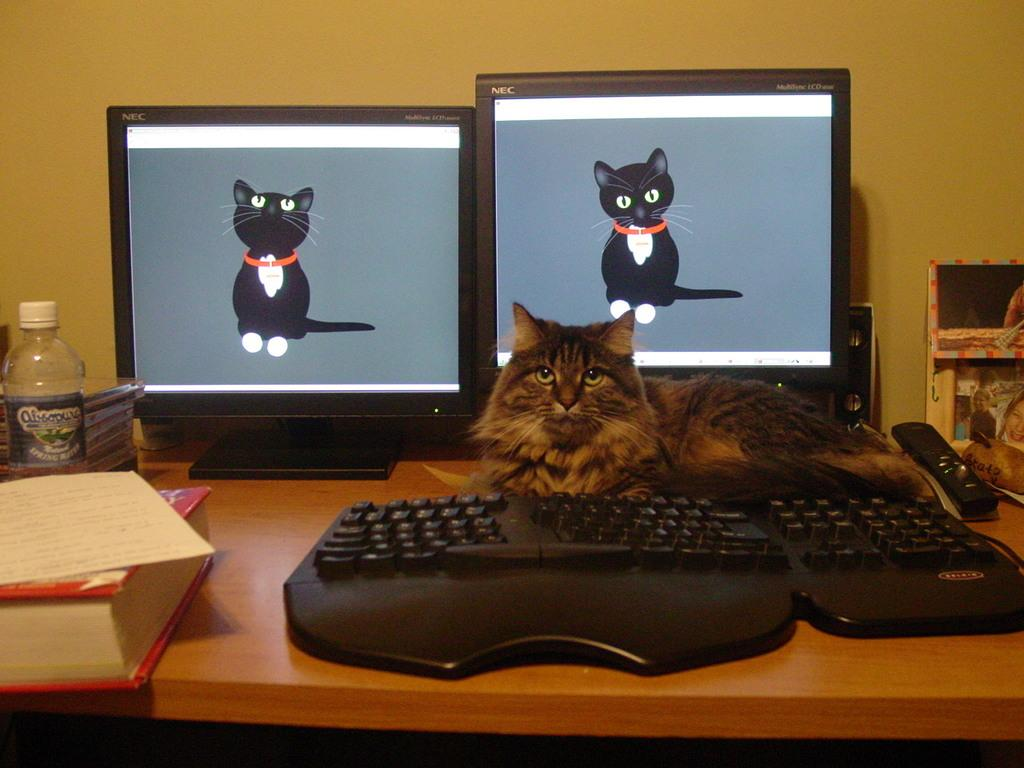Computer-keyboard: (282, 494, 1023, 680)
Computer-monitor: (89, 106, 494, 478), (477, 69, 853, 379)
